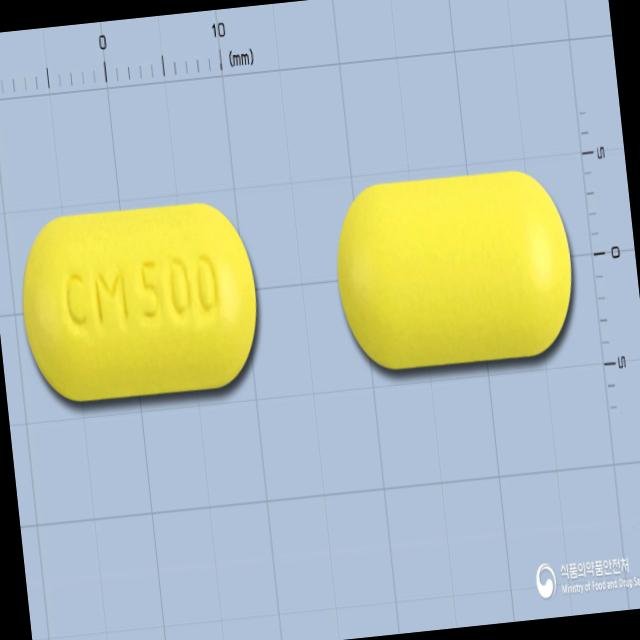Claricin: (9, 192, 269, 414)
